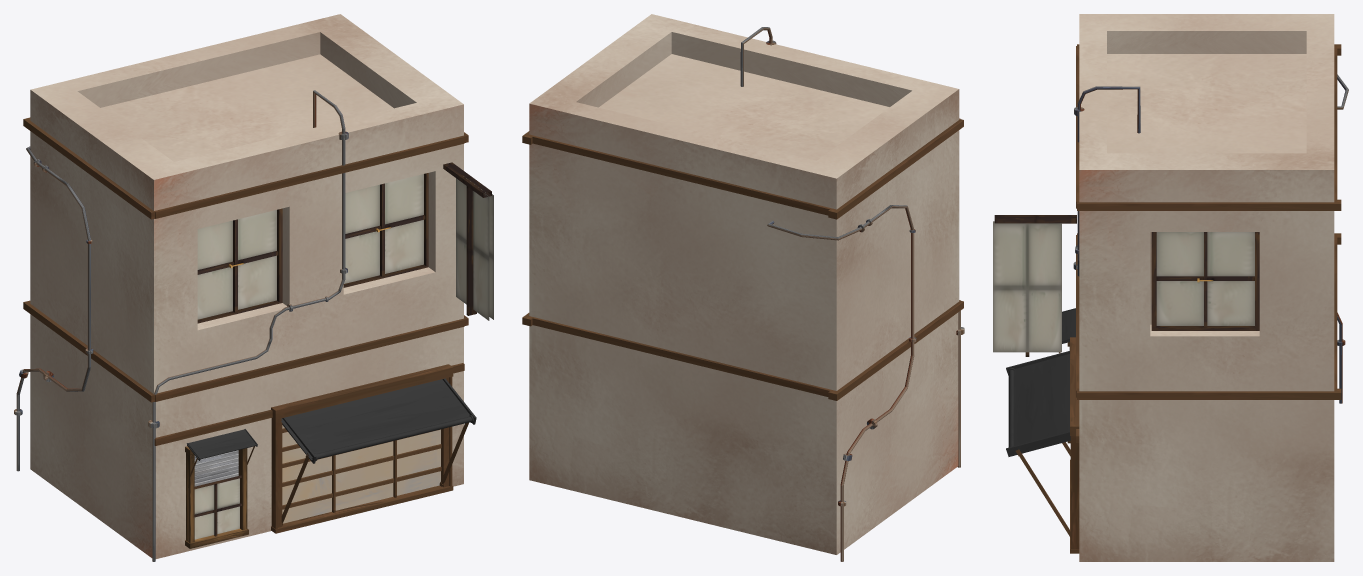
Rendered from Nha 5.fbx.
3 renders of one model, left to right at view 1: azimuth 30°, elevation 25°; view 2: azimuth 150°, elevation 25°; view 3: azimuth 270°, elevation 25°, orthographic. The views are drawn at different scales.
Visible parts, largest first — view 1: Plane.082; view 2: Plane.082; view 3: Plane.082.
Boxes of the visible parts, x1=… form: Plane.082: x1=14, y1=14, x2=493, y2=561; Plane.082: x1=522, y1=14, x2=964, y2=561; Plane.082: x1=993, y1=14, x2=1348, y2=561.
Bounding box in the file's own units: 727 × 857 × 664.
